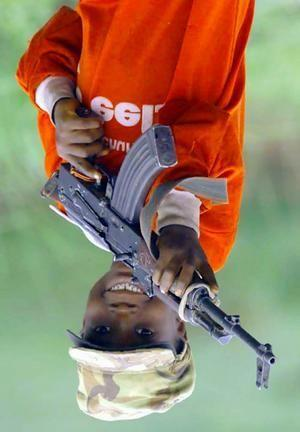larga: (38, 125, 278, 392)
